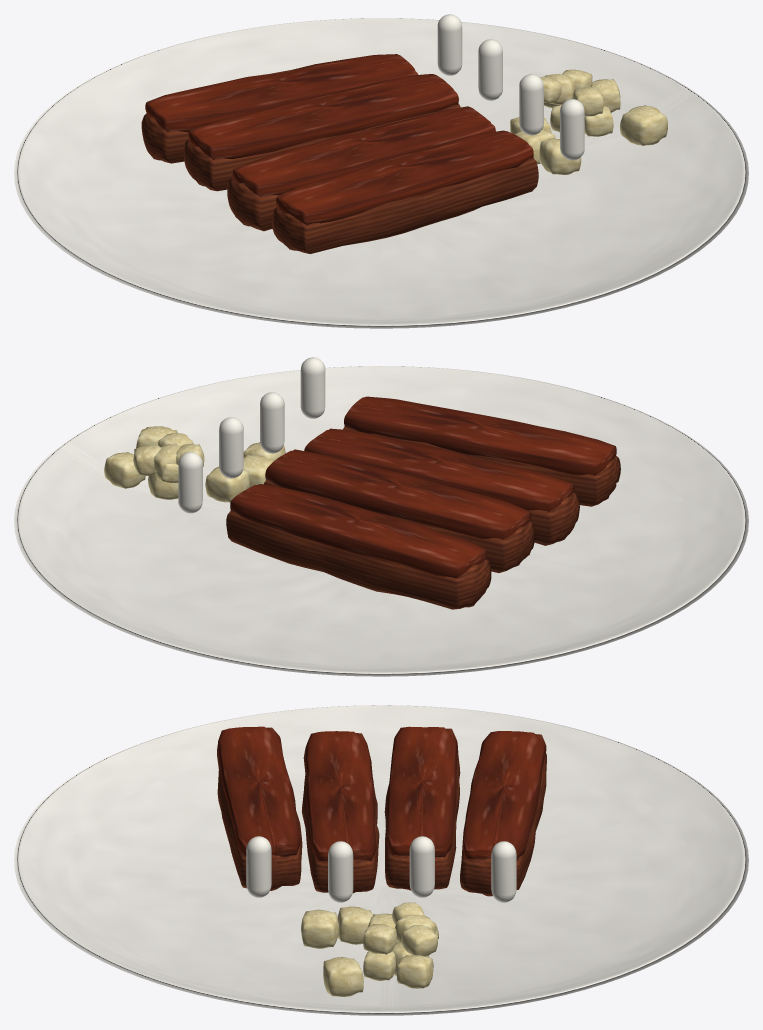
The model's file is costillas-bbq.glb.
The picture shows the model from 3 angles, top to bottom: view 1: azimuth 30°, elevation 25°; view 2: azimuth 150°, elevation 25°; view 3: azimuth 270°, elevation 25°; orthographic projection.
Bounding box in the file's own units: 0.27 × 0.057 × 0.27.
5 materials, 4 textured.
